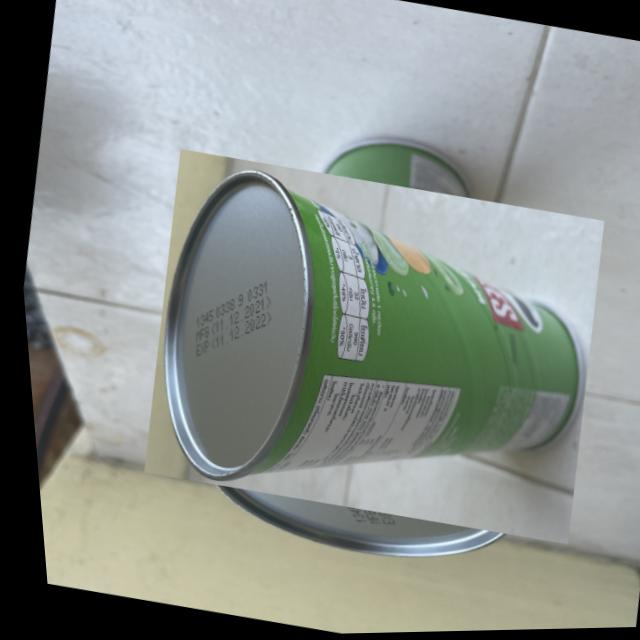a pringles: (134, 124, 604, 573)
